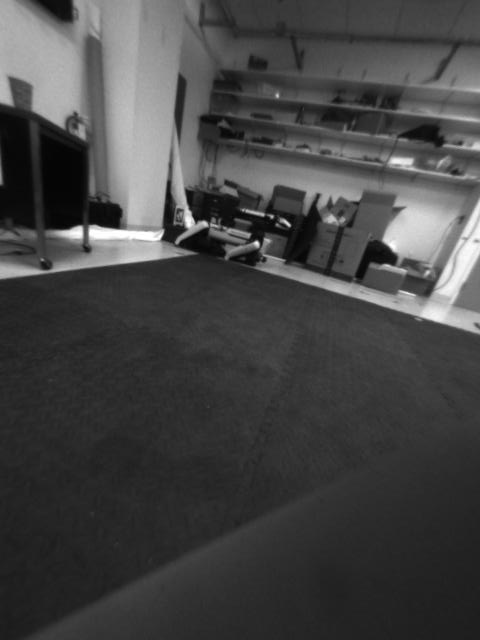coffee_cup: (9, 75, 35, 112)
